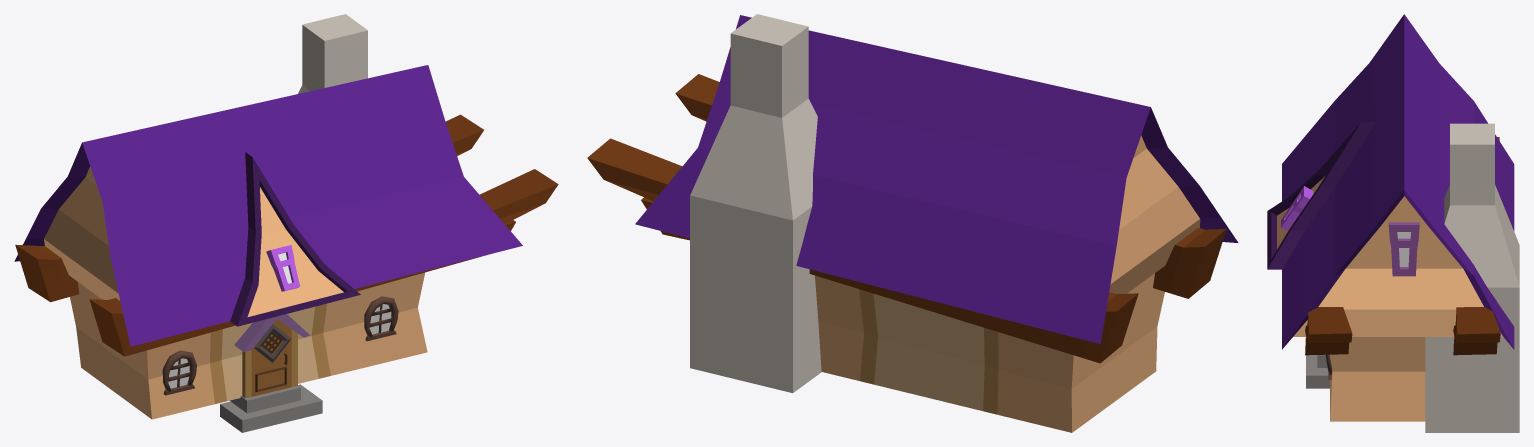
The model's file is grandmom home.fbx.
3 renders of one model, left to right at view 1: azimuth 30°, elevation 25°; view 2: azimuth 150°, elevation 25°; view 3: azimuth 270°, elevation 25°, orthographic. The views are drawn at different scales.
Parts seen in each view (by area): view 1: roof, wall, house wold002, Cube.004, door, steel001, window2 001, window.001, window; view 2: roof, Cube.004, wall, house wold002; view 3: roof, Cube.004, wall, house wold002, window2, steel001, window2 001.
Boxes of the visible parts, x1,y1,x2,y2 form: roof: [14, 65, 522, 346]; wall: [70, 272, 427, 419]; house wold002: [15, 114, 558, 356]; Cube.004: [298, 14, 367, 93]; door: [234, 314, 309, 398]; steel001: [220, 384, 322, 432]; window2 001: [266, 245, 300, 291]; window.001: [162, 350, 196, 395]; window: [364, 296, 398, 341]; roof: [635, 15, 1238, 343]; Cube.004: [690, 14, 821, 393]; wall: [815, 273, 1164, 432]; house wold002: [587, 74, 1226, 363]; roof: [1267, 14, 1514, 349]; Cube.004: [1425, 123, 1519, 432]; wall: [1329, 337, 1425, 421]; house wold002: [1305, 137, 1500, 355]; window2: [1388, 222, 1419, 276]; steel001: [1306, 355, 1329, 388]; window2 001: [1281, 186, 1313, 230].
Bounding box in the file's own units: 170 × 109 × 83.17.
